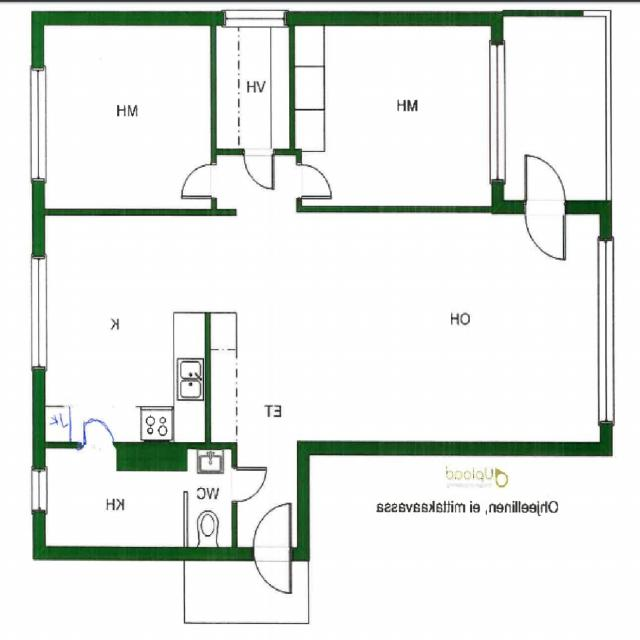door: (525, 200, 565, 259), (525, 154, 565, 213), (253, 506, 290, 560), (253, 548, 290, 602), (84, 407, 115, 447), (182, 164, 217, 198), (232, 467, 267, 501), (244, 148, 273, 188), (297, 165, 331, 198)
